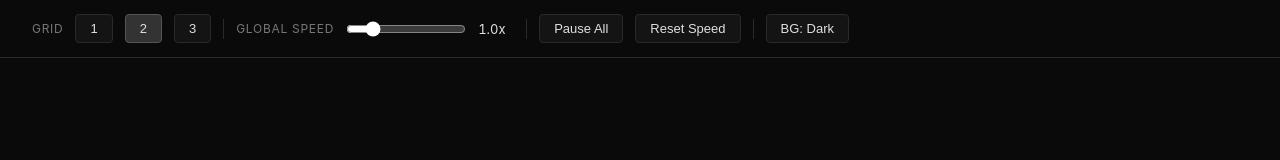
Test: Toolbar › toggles pause on click
Click the button "Pause All" at (581, 28), box [539,14,623,43]
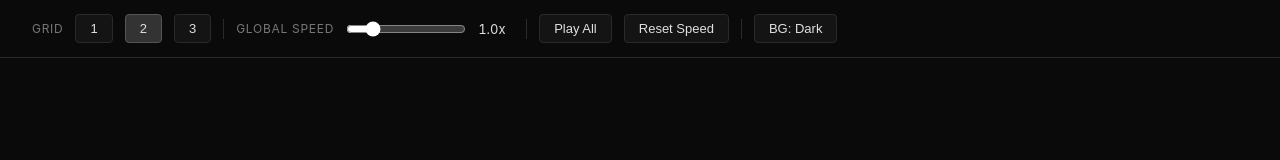
Now the button "Play All" is shown, box [539,14,612,43]
